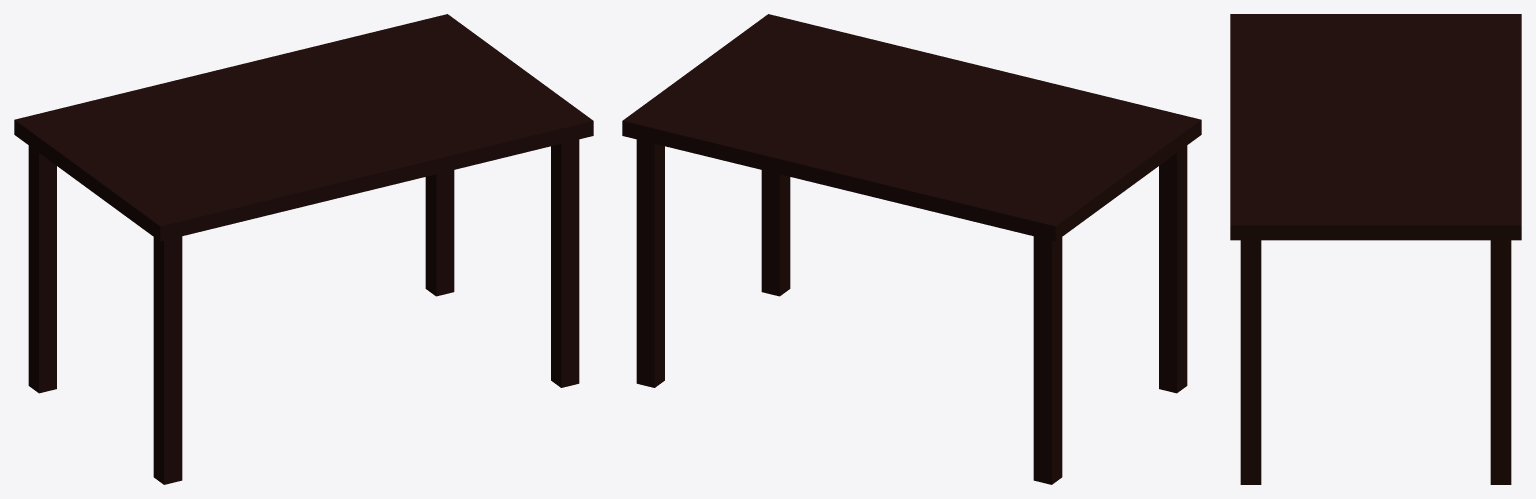
The model's file is z3_jesasang.obj.
3 views of the same model, side by side, from view 1: azimuth 30°, elevation 25°; view 2: azimuth 150°, elevation 25°; view 3: azimuth 270°, elevation 25° (orthographic).
Parts seen in each view (by area): view 1: Cube; view 2: Cube; view 3: Cube.
Boxes of the visible parts, box(x1,y1,x2,y2) form: Cube: box(14, 14, 593, 484); Cube: box(622, 14, 1201, 484); Cube: box(1230, 14, 1521, 484).
Size of the model in its own units: 1.2 by 0.7 by 0.7.
